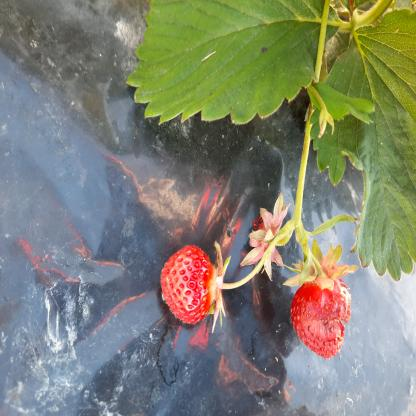ripe: (292, 274, 354, 358), (160, 248, 223, 324)
